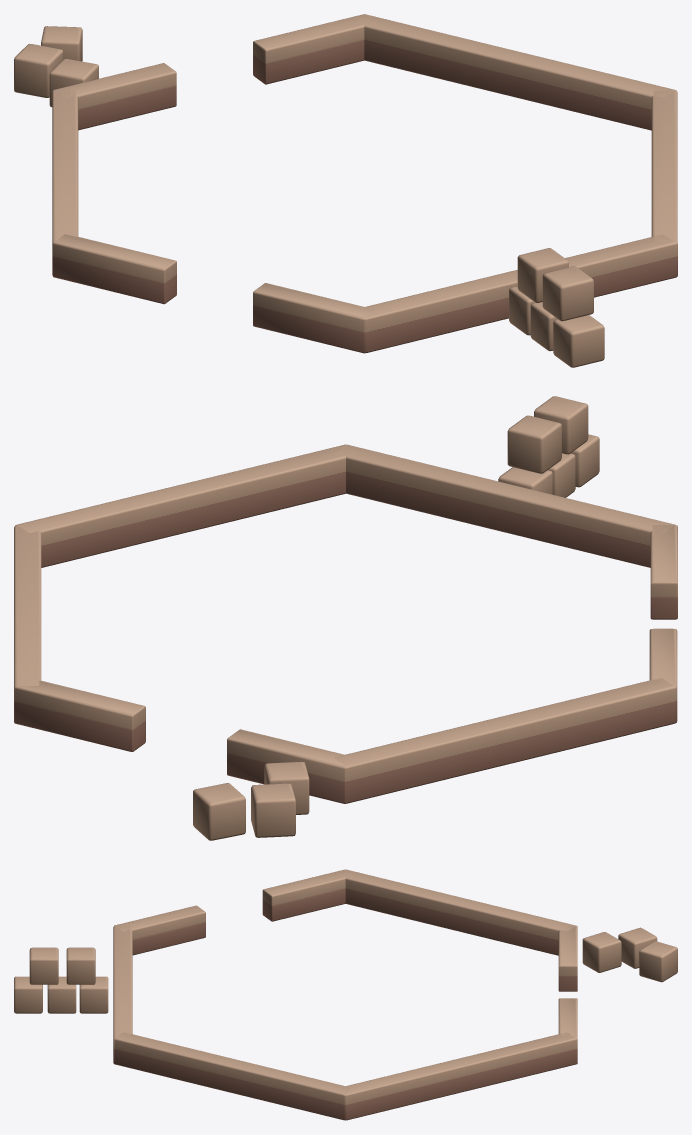
The model's file is Props.fbx.
3 views of the same model, one above another, from view 1: azimuth 30°, elevation 25°; view 2: azimuth 150°, elevation 25°; view 3: azimuth 270°, elevation 25° (orthographic). The views are drawn at different scales.
Visible parts, largest first — view 1: Box20-3_1 (10), Box20-3_1 (8), Box20-3_1 (5), Box20-3_1 (3), Box20-3_1 (12), Box20-3_1 (11), Box20-3_1 (7), Box20-3_1 (4), Box1-5 (6), Box1-5, Box1-5 (2), Box1-5 (7) (+4 smaller); view 2: Box20-3_1 (4), Box20-3_1 (7), Box20-3_1 (8), Box20-3_1 (12), Box20-3_1 (11), Box20-3_1 (10), Box1-5 (7), Box20-3_1 (3), Box1-5 (3), Box1-5 (2), Box1-5 (6), Box20-3_1 (5) (+4 smaller); view 3: Box20-3_1 (7), Box20-3_1 (10), Box20-3_1 (4), Box20-3_1 (5), Box20-3_1 (3), Box20-3_1 (8), Box1-5 (1), Box1-5 (3), Box20-3_1 (11), Box1-5 (7), Box1-5 (6), Box1-5 (5) (+4 smaller).
Boxes of the visible parts, bbox=[...] form: Box20-3_1 (10): bbox=[355, 14, 675, 130]; Box20-3_1 (8): bbox=[359, 234, 677, 353]; Box20-3_1 (5): bbox=[52, 234, 176, 304]; Box20-3_1 (3): bbox=[253, 283, 374, 353]; Box20-3_1 (12): bbox=[253, 14, 374, 84]; Box20-3_1 (11): bbox=[52, 63, 176, 130]; Box20-3_1 (7): bbox=[651, 90, 677, 276]; Box20-3_1 (4): bbox=[52, 90, 78, 274]; Box1-5 (6): bbox=[542, 266, 593, 321]; Box1-5: bbox=[553, 315, 604, 367]; Box1-5 (2): bbox=[14, 44, 63, 97]; Box1-5 (7): bbox=[517, 248, 568, 302]; Box20-3_1 (4): bbox=[335, 678, 676, 803]; Box20-3_1 (7): bbox=[15, 444, 355, 567]; Box20-3_1 (8): bbox=[335, 444, 675, 567]; Box20-3_1 (12): bbox=[14, 680, 145, 751]; Box20-3_1 (11): bbox=[227, 729, 346, 803]; Box20-3_1 (10): bbox=[14, 525, 41, 687]; Box1-5 (7): bbox=[507, 415, 561, 473]; Box20-3_1 (3): bbox=[650, 525, 677, 619]; Box1-5 (3): bbox=[193, 783, 245, 840]; Box1-5 (2): bbox=[251, 783, 295, 837]; Box1-5 (6): bbox=[534, 396, 588, 454]; Box20-3_1 (5): bbox=[649, 628, 677, 722]; Box20-3_1 (7): bbox=[113, 1032, 352, 1120]; Box20-3_1 (10): bbox=[345, 1032, 577, 1120]; Box20-3_1 (4): bbox=[339, 869, 575, 955]; Box20-3_1 (5): bbox=[262, 869, 352, 921]; Box20-3_1 (3): bbox=[114, 905, 205, 955]; Box20-3_1 (8): bbox=[113, 926, 132, 1064]; Box1-5 (1): bbox=[582, 932, 621, 972]; Box1-5 (3): bbox=[639, 941, 677, 982]; Box20-3_1 (11): bbox=[558, 925, 577, 991]; Box1-5 (7): bbox=[66, 947, 95, 984]; Box1-5 (6): bbox=[29, 947, 58, 984]; Box1-5 (5): bbox=[79, 976, 108, 1013].
Bounding box in the file's own units: 27.81 × 3.15 × 34.54.
